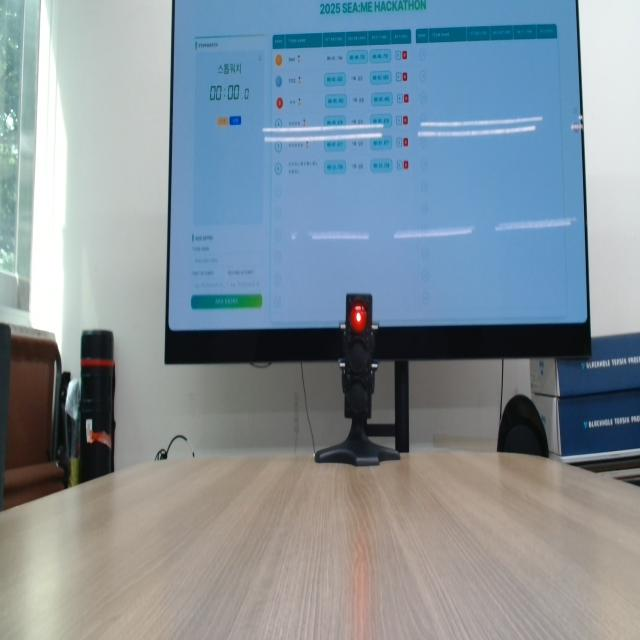red_light: (350, 303, 367, 333)
